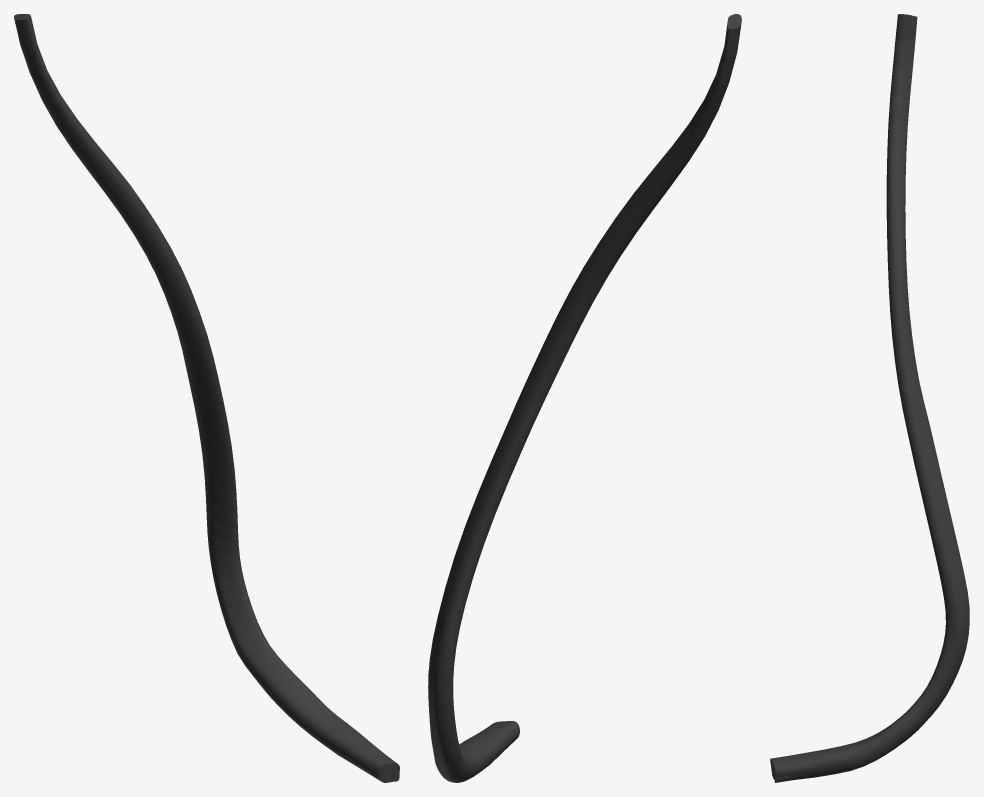
Rendered from N_5_trigeminus_mandibular_tensor_tympani.glb.
The picture shows the model from 3 angles, left to right: view 1: azimuth 30°, elevation 25°; view 2: azimuth 150°, elevation 25°; view 3: azimuth 270°, elevation 25°; orthographic projection. The views are drawn at different scales.
Visible parts, largest first — view 1: N_5_trigeminus_mandibular_tensor_tympani; view 2: N_5_trigeminus_mandibular_tensor_tympani; view 3: N_5_trigeminus_mandibular_tensor_tympani.
Part boxes in pixels (x1=…): N_5_trigeminus_mandibular_tensor_tympani: x1=14, y1=14, x2=399, y2=782; N_5_trigeminus_mandibular_tensor_tympani: x1=428, y1=14, x2=741, y2=782; N_5_trigeminus_mandibular_tensor_tympani: x1=770, y1=14, x2=969, y2=782.
Size of the model in its own units: 0.00247 by 0.00605 by 0.00169.
1 material, 1 textured.
